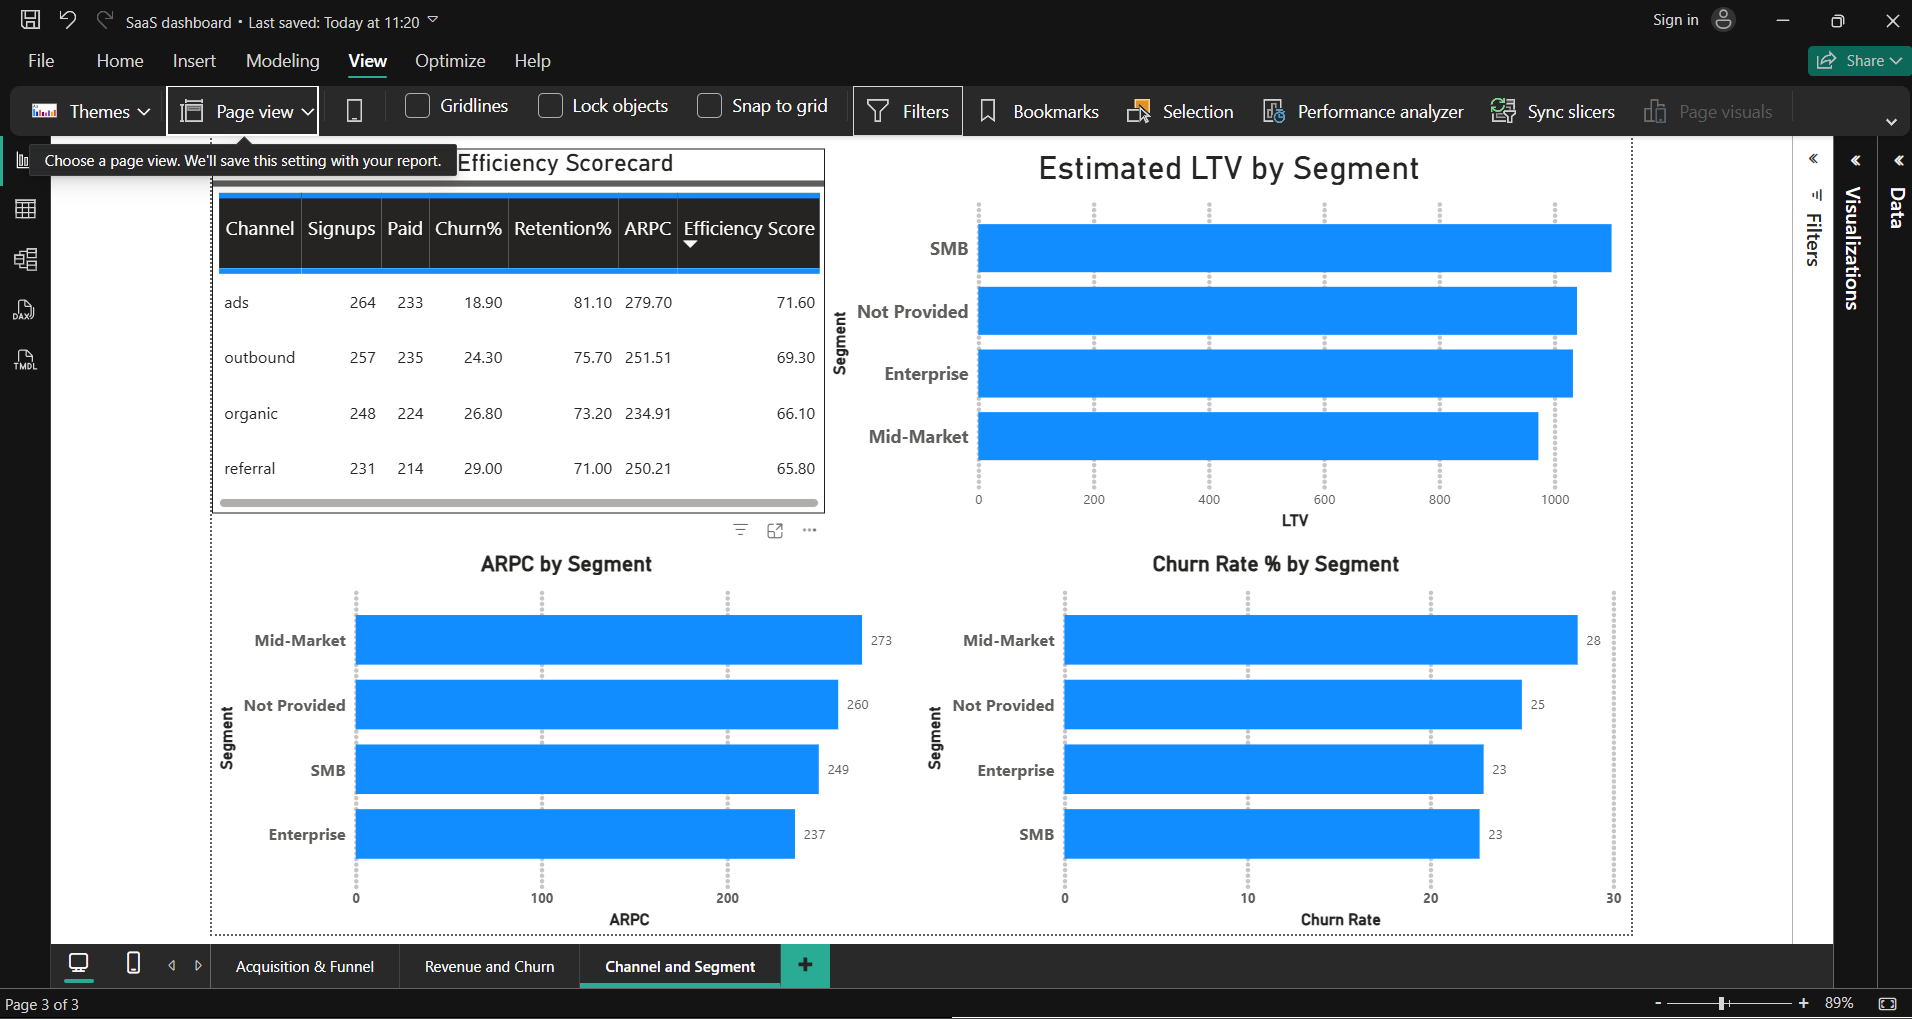

The page's visual inventory and layout, read from the dashboard file:
{"tool":"powerbi","page":{"name":"Channel and Segment","canvas":[1280,720],"ordinal":2},"visuals":[{"type":"tableEx","title":"Channel Efficiency Scorecard","fields":{"Values":["Channel_Score.Channel","Channel_Score.Signups","Channel_Score.Paid","Channel_Score.Churn%","Channel_Score.Retention%","Channel_Score.ARPC","Channel_Score.Efficiency Score"]},"box":[0,11,553,329.3],"z":0},{"type":"clusteredBarChart","title":"Estimated LTV by Segment","fields":{"Category":["Segment_LTV.Segment"],"Y":["Sum(Segment_LTV.LTV)"]},"box":[553,11,727.3,348.5],"z":1000},{"type":"clusteredBarChart","title":"ARPC by Segment","fields":{"Category":["Segment_LTV.Segment"],"Y":["Sum(Segment_LTV.ARPC)"]},"box":[0,374.6,639.5,345.8],"z":2000},{"type":"clusteredBarChart","title":"Churn Rate % by Segment","fields":{"Category":["Segment_LTV.Segment"],"Y":["Sum(Segment_LTV.Churn Rate)"]},"box":[603.8,374.6,676.5,345.8],"z":3000}]}

Visuals, with their boxes on the page's 1280x720 design canvas (x1, y1, x2, y2). These are canvas units, not pixel positions in the 1912x1019 screenshot, which may show the page scaled, cropped or inside an application window:
"Channel Efficiency Scorecard" tableEx: pyautogui.locateOnScreen(0, 11, 553, 340)
"Estimated LTV by Segment" clusteredBarChart: pyautogui.locateOnScreen(553, 11, 1280, 360)
"ARPC by Segment" clusteredBarChart: pyautogui.locateOnScreen(0, 375, 640, 720)
"Churn Rate % by Segment" clusteredBarChart: pyautogui.locateOnScreen(604, 375, 1280, 720)
